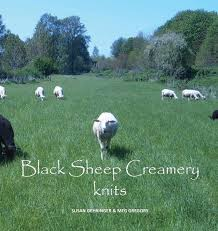sheep: (88, 110, 122, 157), (180, 89, 207, 104), (159, 88, 179, 103), (34, 85, 49, 102), (53, 85, 66, 100), (1, 84, 10, 102)
